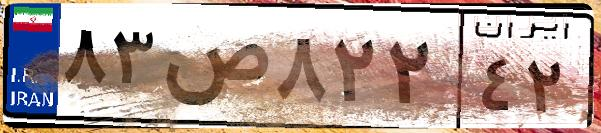2: (385, 28, 445, 110), (330, 28, 385, 110), (525, 38, 570, 115)
3: (110, 28, 158, 98)
4: (475, 38, 525, 113)
8: (270, 28, 330, 110), (57, 26, 110, 100)
ص: (158, 20, 270, 120)
